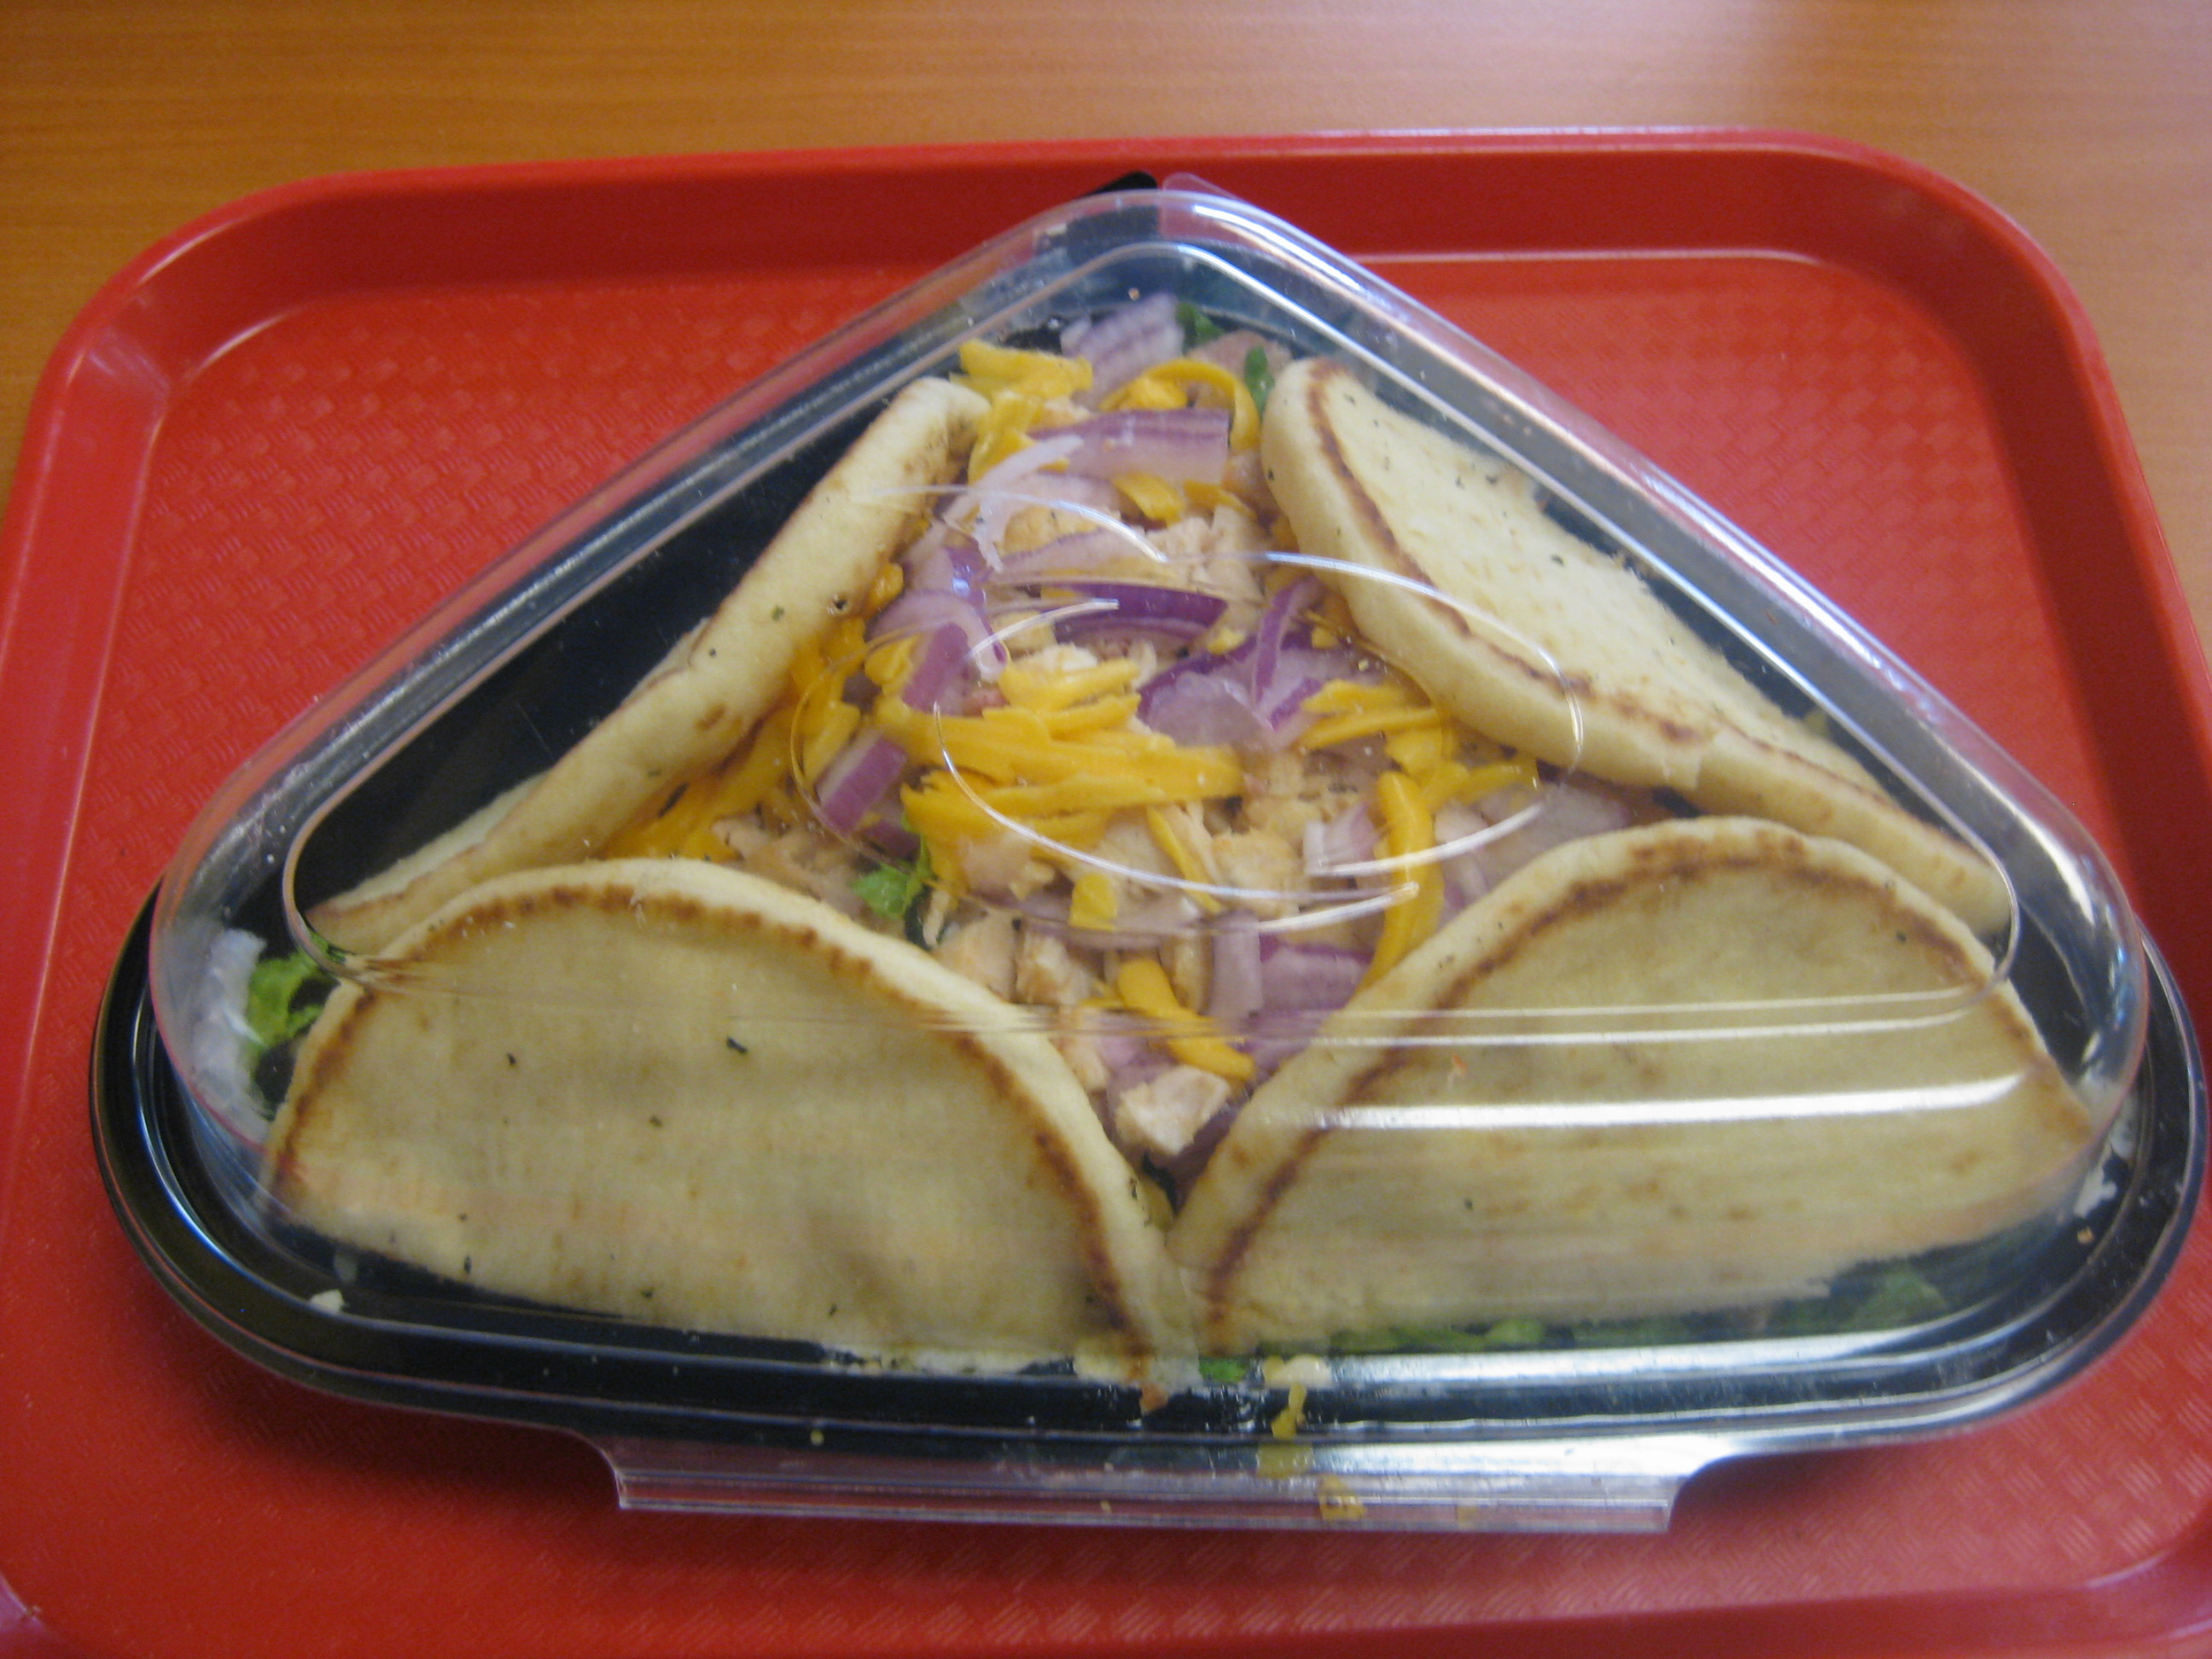burrito: (236, 155, 2110, 1454)
